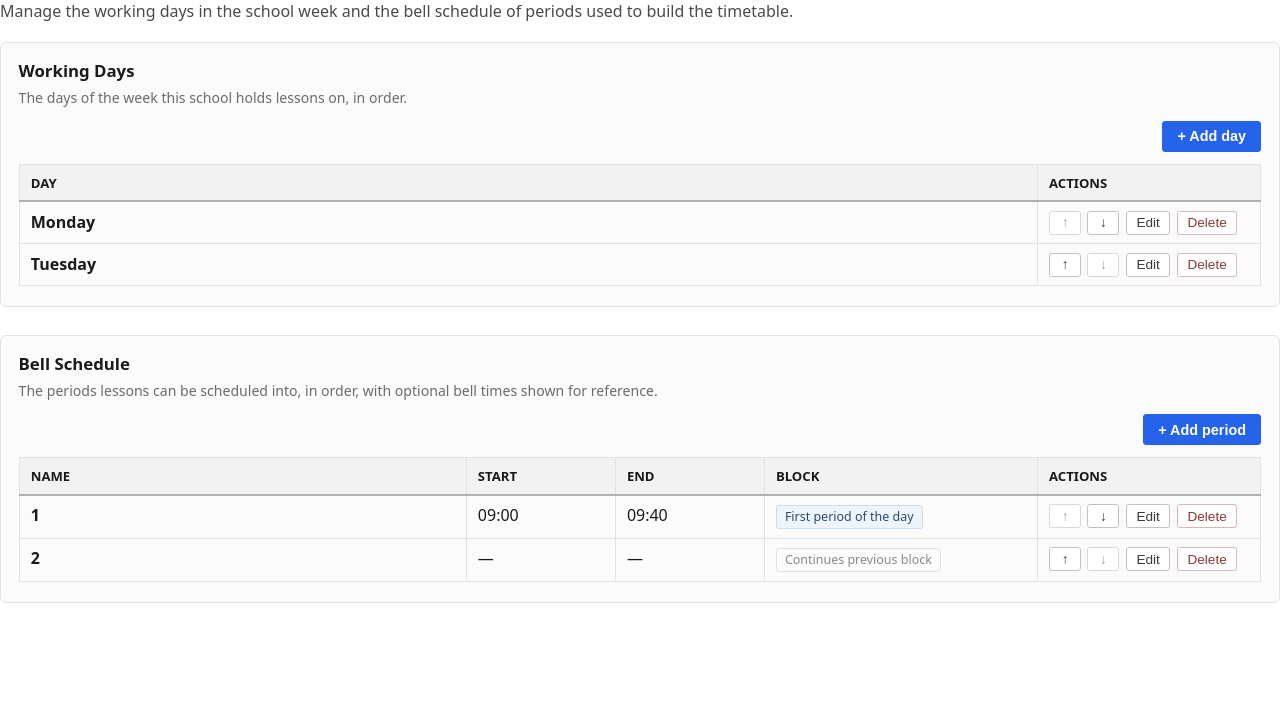
CalendarBellSchedulePanel › Working Days › maps DUPLICATE_DAY to a clear inline message
Expected: the column heading "Monday" is shown, [19,201,1037,244]
Click the button "+ Add day" at (1212, 136), box [1162,121,1261,152]
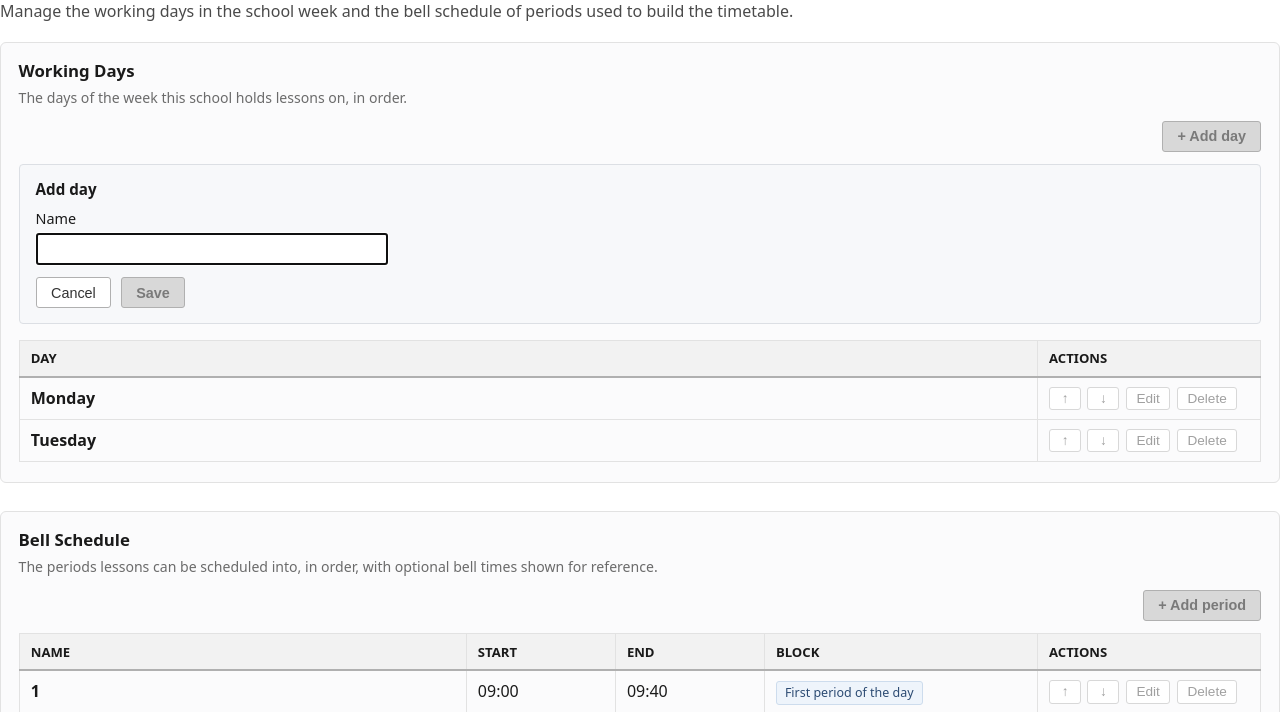
Type "Monday" into the field labelled "Name" at (212, 249), box [36,232,388,265]
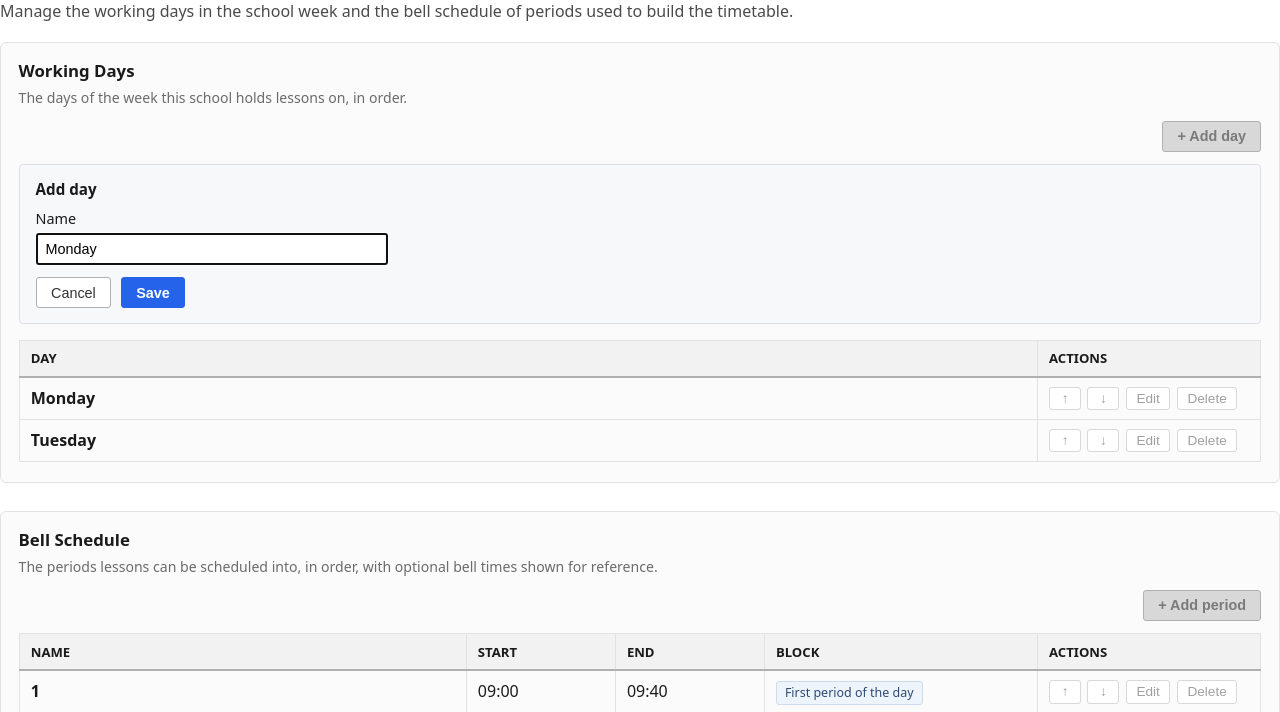
Click the button "Save" at (153, 293), box [121,277,185,308]
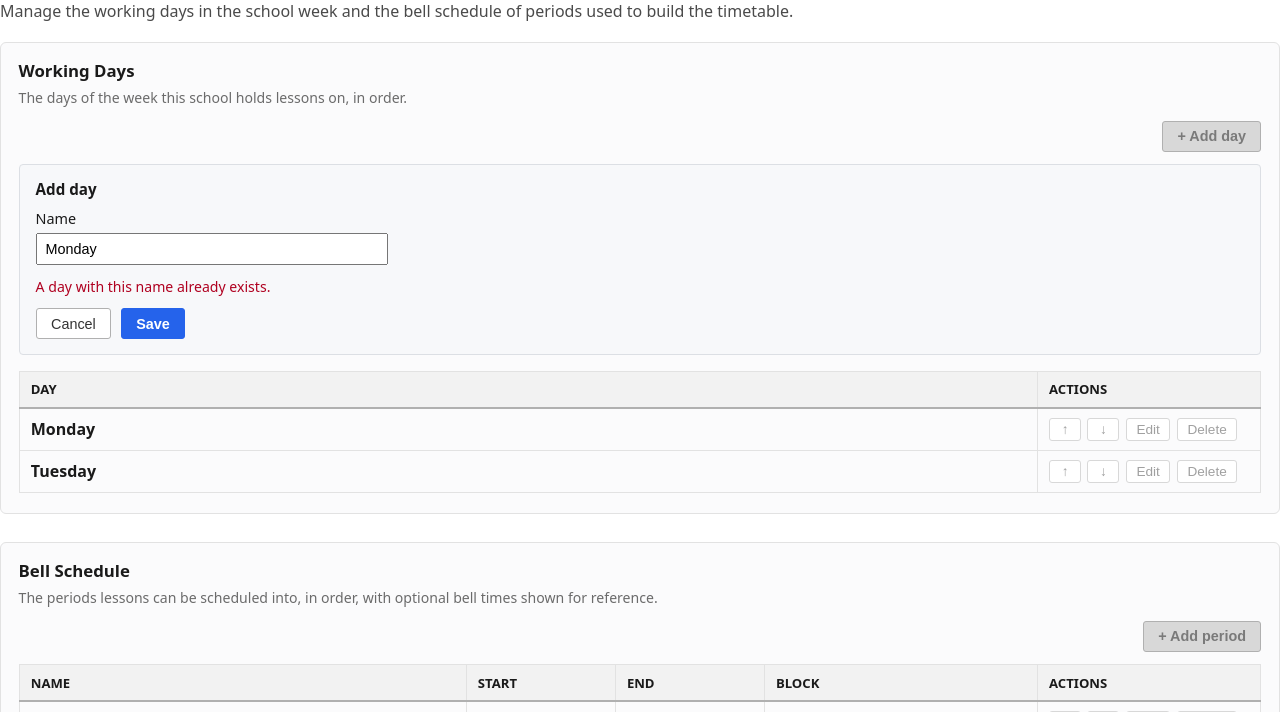
Now the text "A day with this name already exists." is shown, box [36,277,270,296]
